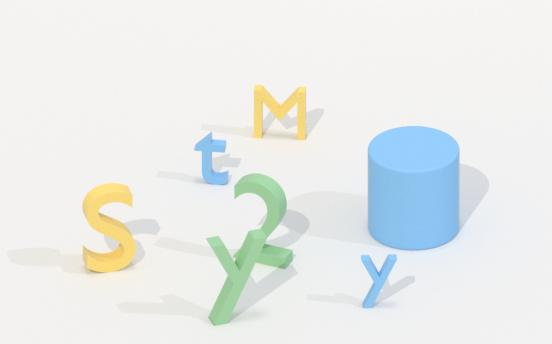2: (228, 170, 292, 263)
M-hoa: (248, 82, 309, 142)
Y: (203, 228, 266, 329), (357, 250, 403, 313)
s: (78, 182, 144, 281)
t: (192, 131, 235, 189)
tru: (363, 126, 462, 249)
